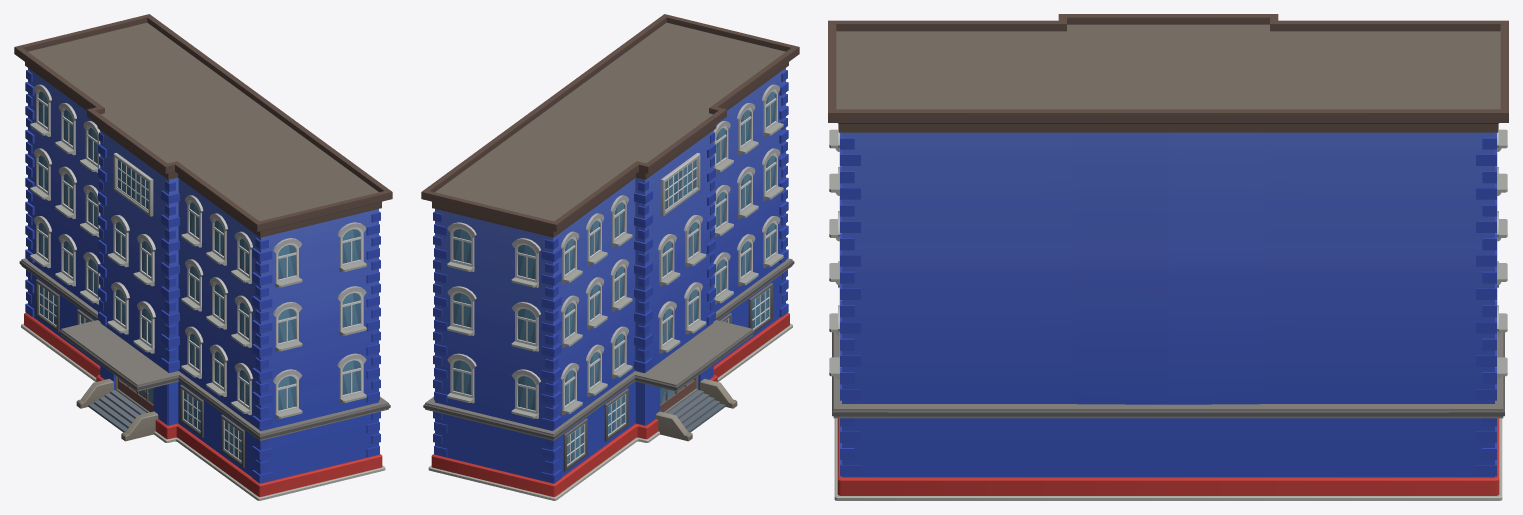
Rendered from Building_6_A.fbx.
3 renders of one model, left to right at view 1: azimuth 30°, elevation 25°; view 2: azimuth 150°, elevation 25°; view 3: azimuth 270°, elevation 25°, orthographic. The views are drawn at different scales.
Visible parts, largest first — view 1: Building_6_A; view 2: Building_6_A; view 3: Building_6_A.
Part boxes in pixels (x1,y1,x2,y2): Building_6_A: [14, 14, 392, 500]; Building_6_A: [421, 14, 799, 500]; Building_6_A: [828, 14, 1508, 500].
Bounding box in the file's own units: 935 × 1440 × 2273.
